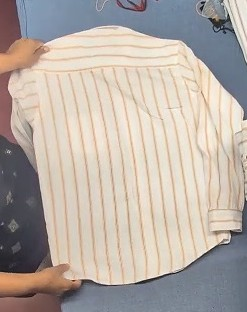T_SHIRT: (1, 47, 247, 271)
